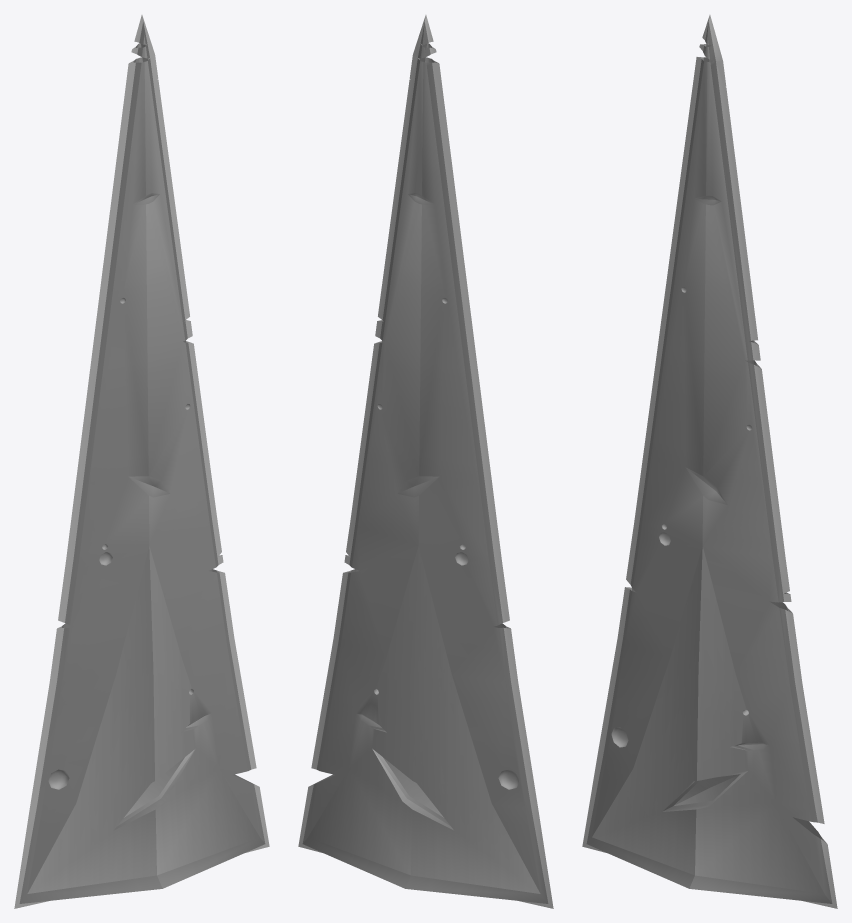
Rendered from stone_blade_bubbles_043.glb.
The picture shows the model from 3 angles, left to right: view 1: azimuth 30°, elevation 25°; view 2: azimuth 150°, elevation 25°; view 3: azimuth 330°, elevation 25°; orthographic projection.
Parts seen in each view (by area): view 1: stone_blade_bubbles.043; view 2: stone_blade_bubbles.043; view 3: stone_blade_bubbles.043.
Part boxes in pixels (x1,y1,x2,y2): stone_blade_bubbles.043: [14, 15, 269, 908]; stone_blade_bubbles.043: [298, 15, 553, 908]; stone_blade_bubbles.043: [582, 15, 837, 908].
Bounding box in the file's own units: 3.52 × 11.43 × 0.9907.
1 material, 1 textured.
